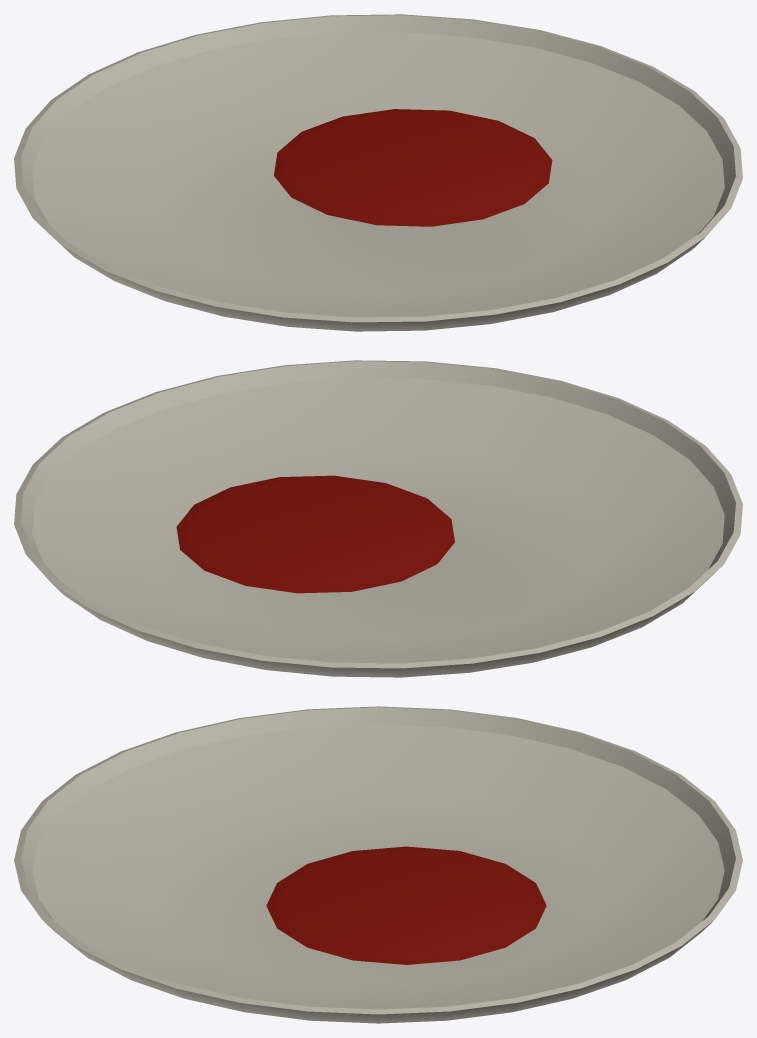
The model's file is food-veg-pasta-s3.glb.
3 renders of one model, top to bottom at view 1: azimuth 30°, elevation 25°; view 2: azimuth 150°, elevation 25°; view 3: azimuth 270°, elevation 25°, orthographic.
Parts seen in each view (by area): view 1: plate__ceramic, sauce__sauce; view 2: plate__ceramic, sauce__sauce; view 3: plate__ceramic, sauce__sauce.
Part boxes in pixels (box(x1,y1,x2,y2)): plate__ceramic: box(14, 14, 742, 331); sauce__sauce: box(274, 109, 552, 226); plate__ceramic: box(14, 360, 742, 677); sauce__sauce: box(176, 475, 454, 593); plate__ceramic: box(14, 706, 742, 1023); sauce__sauce: box(266, 846, 546, 964).
Bounding box in the file's own units: 0.26 × 0.0208 × 0.26.
